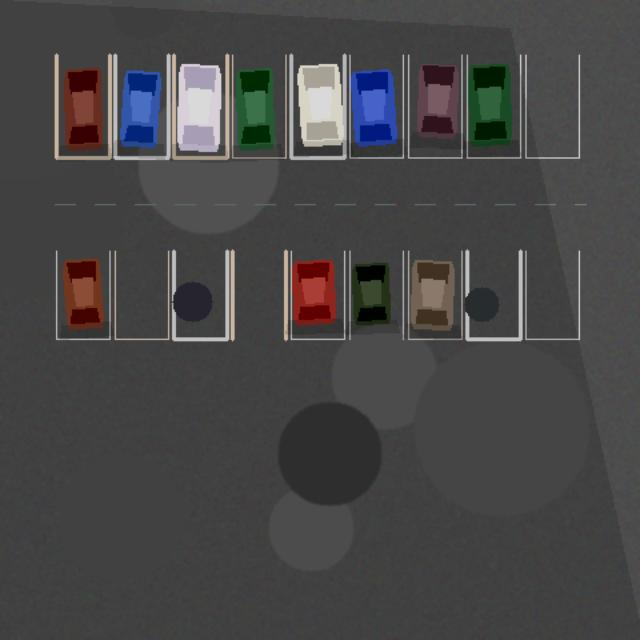space-empty: (525, 55, 579, 157), (173, 251, 227, 339), (525, 251, 579, 339), (115, 251, 168, 339), (232, 251, 285, 339), (467, 251, 520, 339)
space-occupied: (173, 55, 227, 157), (349, 55, 403, 157), (56, 55, 109, 157), (115, 55, 168, 157), (232, 55, 285, 157), (291, 55, 344, 157), (408, 55, 461, 157), (467, 55, 520, 157), (349, 251, 403, 339), (56, 251, 109, 339), (291, 251, 344, 339), (408, 251, 461, 339)
